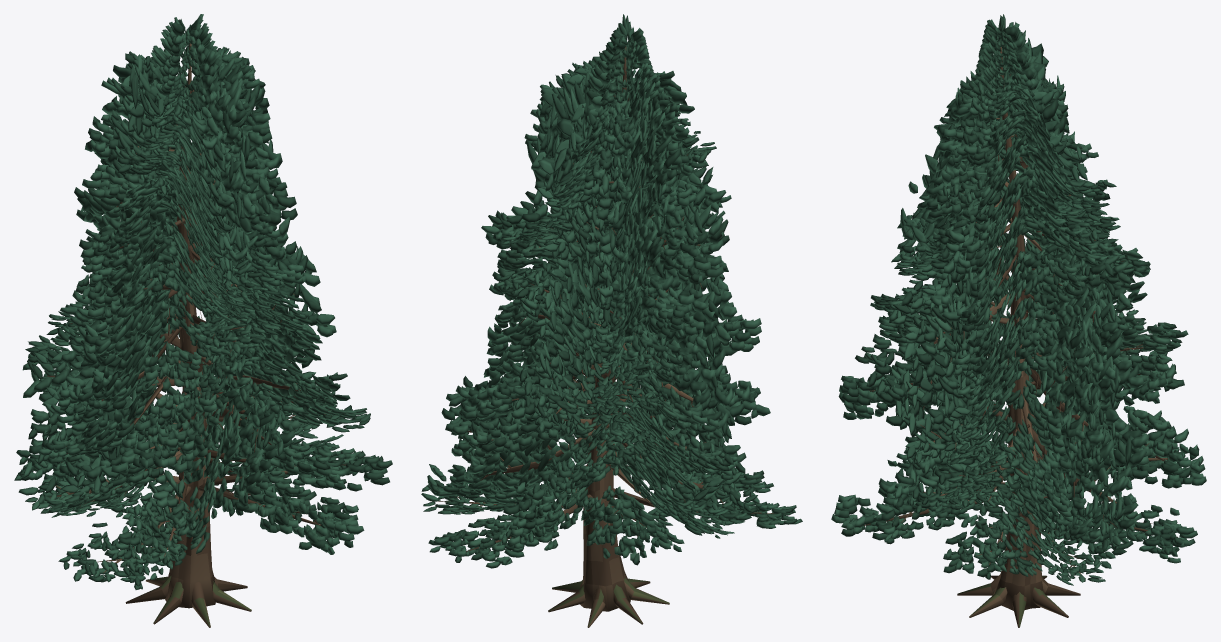
File: alpine-fir-1.glb
The picture shows the model from 3 angles, left to right: view 1: azimuth 30°, elevation 25°; view 2: azimuth 150°, elevation 25°; view 3: azimuth 270°, elevation 25°; orthographic projection. The views are drawn at different scales.
Parts seen in each view (by area): view 1: forest-cedar-1/1, forest-cedar-1/0; view 2: forest-cedar-1/1, forest-cedar-1/0; view 3: forest-cedar-1/1, forest-cedar-1/0.
Boxes of the visible parts, x1,y1,x2,y2 form: forest-cedar-1/1: [14, 14, 392, 589]; forest-cedar-1/0: [47, 43, 345, 627]; forest-cedar-1/1: [421, 14, 802, 568]; forest-cedar-1/0: [438, 46, 773, 627]; forest-cedar-1/1: [831, 14, 1206, 585]; forest-cedar-1/0: [863, 47, 1177, 627].
Bounding box in the file's own units: 6.17 × 10.56 × 6.19.
